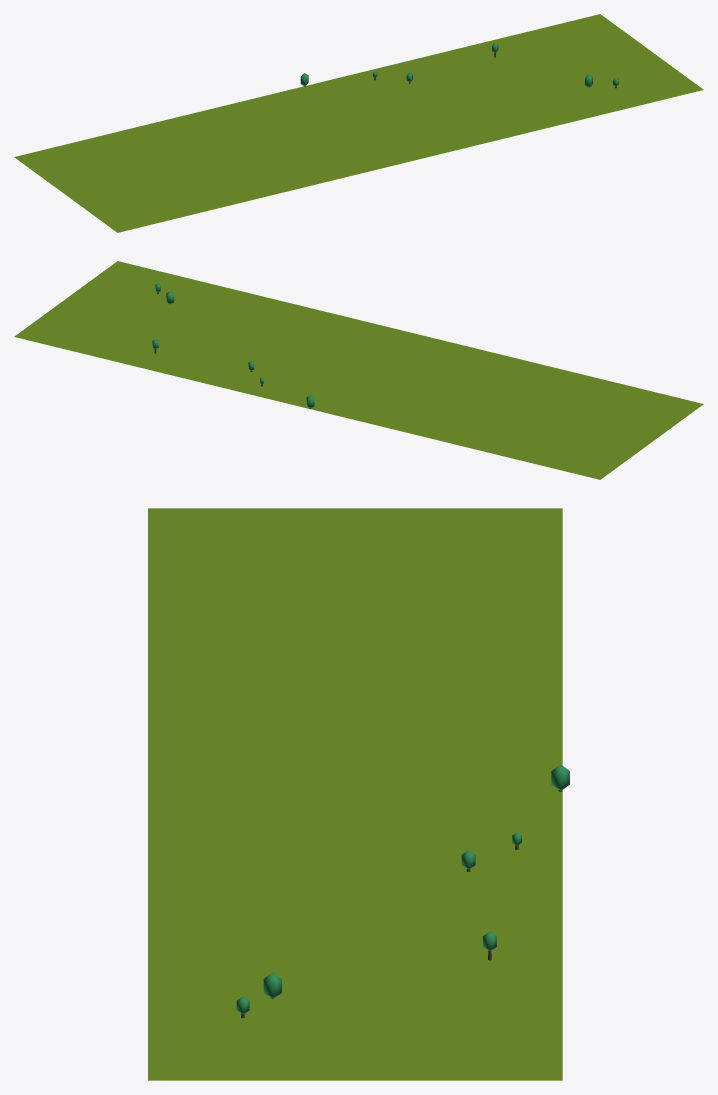
File: nature_left1.glb
3 views of the same model, one above another, from view 1: azimuth 30°, elevation 25°; view 2: azimuth 150°, elevation 25°; view 3: azimuth 270°, elevation 25° (orthographic). The views are drawn at different scales.
Bounding box in the file's own units: 98 × 2.39 × 30.53.
